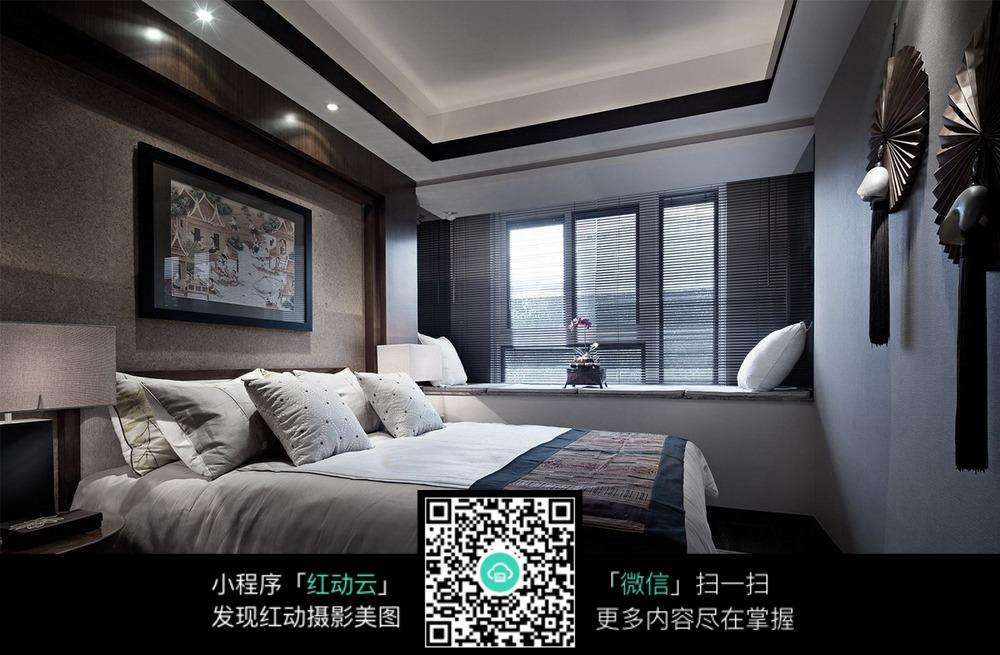床: (72, 415, 750, 554)
枕头: (124, 364, 442, 473), (727, 320, 811, 393), (367, 338, 466, 386)
灯: (138, 23, 169, 51), (275, 111, 301, 134), (320, 100, 341, 118)
